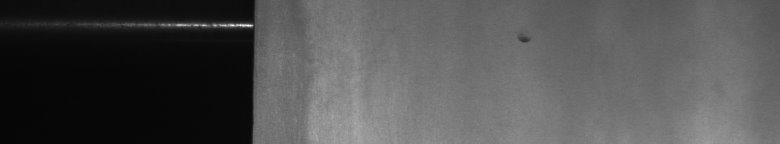fi: (516, 35, 531, 48)
